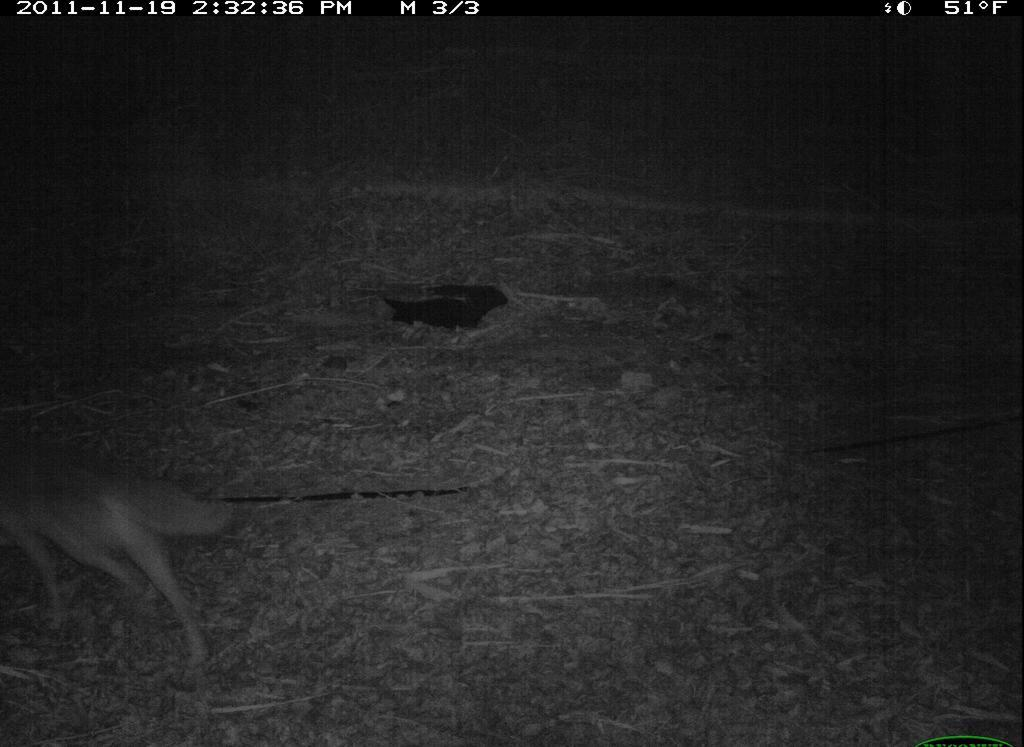coyote: (1, 418, 241, 677)
